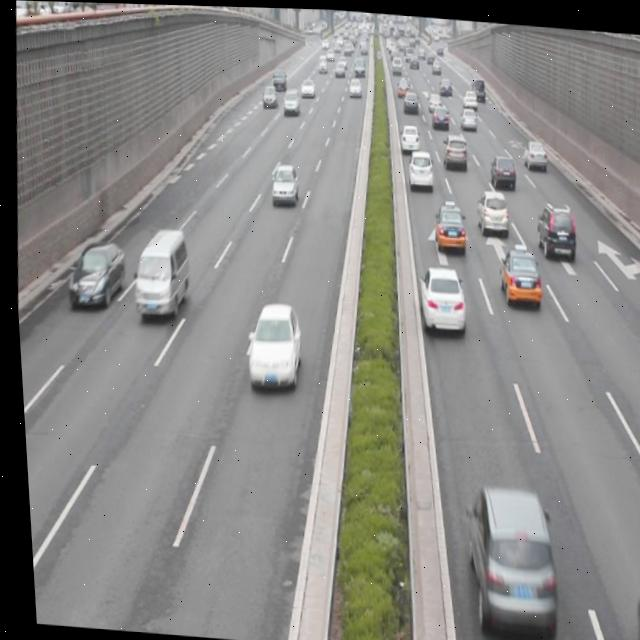car: (455, 476, 555, 637), (239, 297, 300, 388), (62, 234, 124, 312), (413, 261, 462, 330), (492, 244, 540, 304), (531, 197, 574, 258), (429, 199, 465, 251), (470, 185, 505, 235), (268, 161, 299, 204), (403, 145, 432, 189), (621, 578, 640, 640), (487, 149, 515, 189), (440, 129, 465, 168), (519, 136, 545, 167), (397, 122, 419, 150)
truck: (125, 223, 190, 320)
